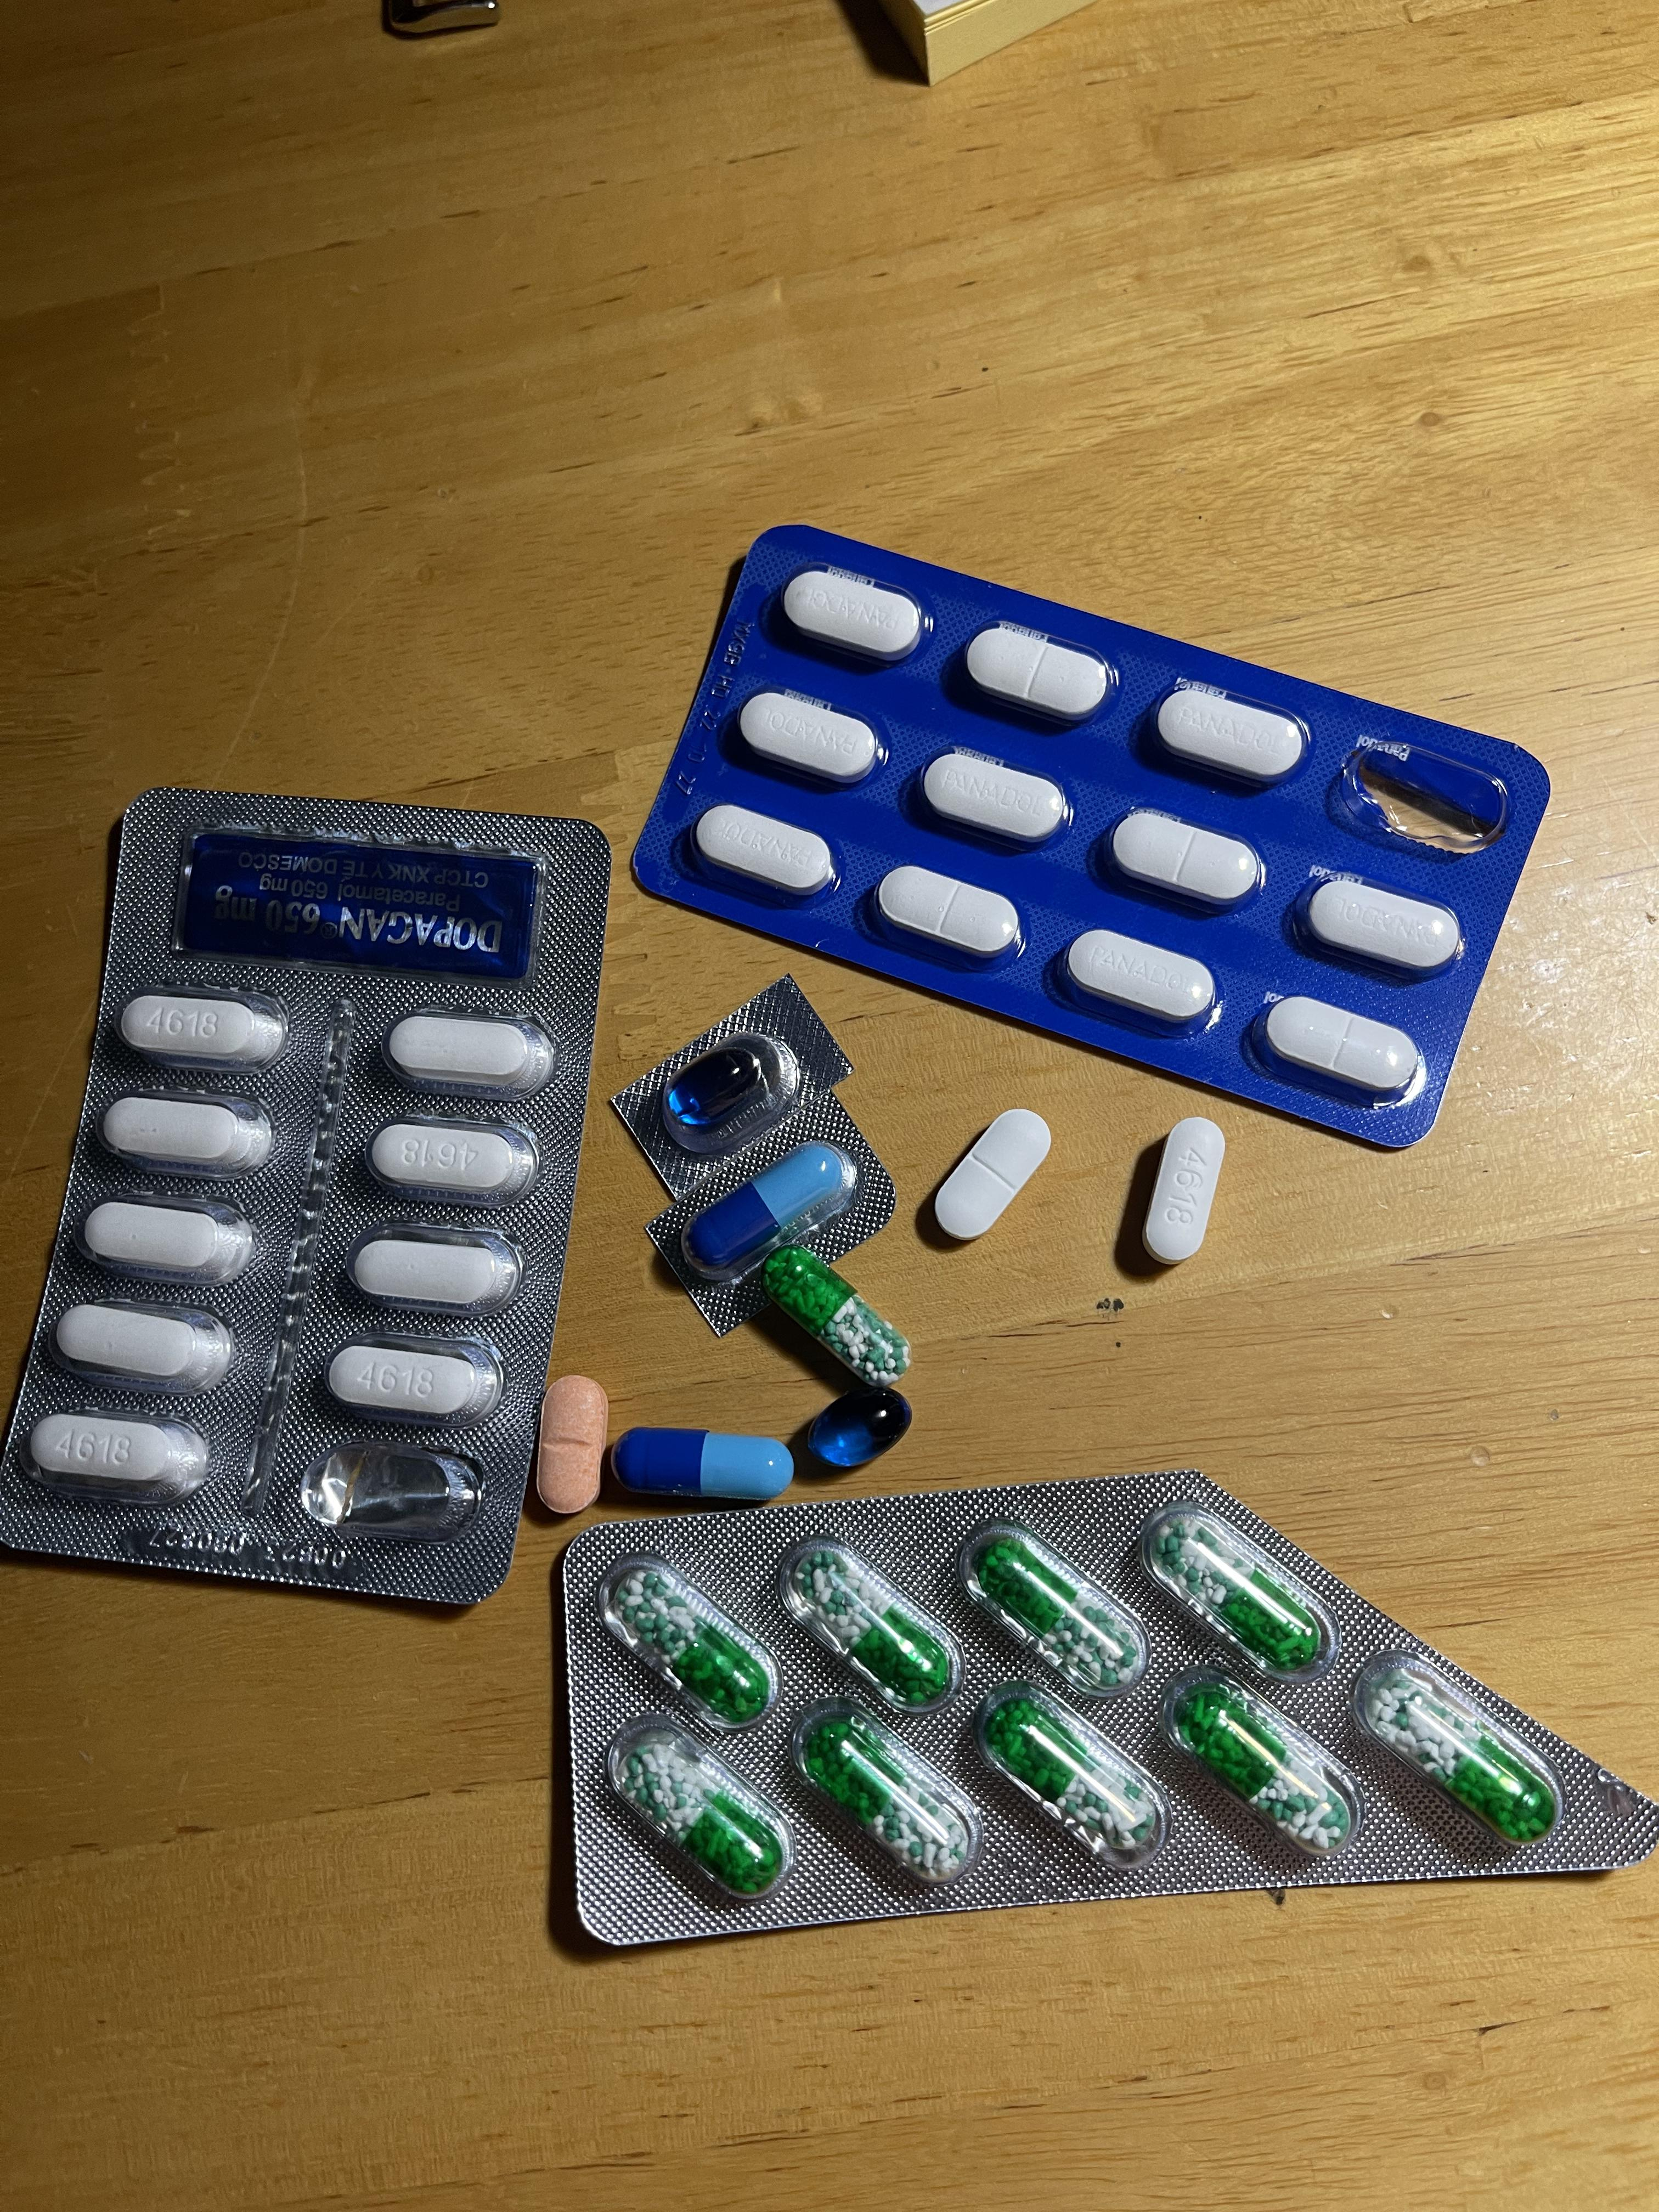Lincomyxin_500mg: (805, 1383, 911, 1472), (666, 1045, 767, 1125)
Loratadine_10mg: (535, 1374, 608, 1512)
Paracetamol_350mg: (1300, 873, 1469, 977), (1148, 681, 1310, 787), (932, 1106, 1051, 1240), (962, 622, 1114, 726), (1263, 995, 1425, 1092), (1107, 808, 1263, 907), (1063, 928, 1218, 1026), (875, 864, 1021, 963), (918, 749, 1066, 846), (781, 568, 922, 665), (735, 691, 875, 786), (692, 803, 831, 897)
Paracetamol_500mg: (24, 1411, 207, 1503), (54, 1301, 234, 1390), (78, 1198, 253, 1284), (383, 1014, 551, 1096), (368, 1118, 537, 1198), (101, 1096, 274, 1174), (119, 993, 293, 1069), (328, 1343, 493, 1421), (1143, 1118, 1232, 1263), (352, 1235, 511, 1306)
Paracetamol_650mg: (798, 1710, 981, 1886), (1370, 1677, 1553, 1843), (1168, 1686, 1352, 1850), (979, 1693, 1155, 1855), (979, 1538, 1147, 1689), (619, 1738, 781, 1892), (610, 1569, 769, 1721), (796, 1548, 951, 1700), (1155, 1519, 1316, 1665), (763, 1245, 910, 1388)
pill: (687, 1141, 854, 1275), (608, 1428, 789, 1501)
